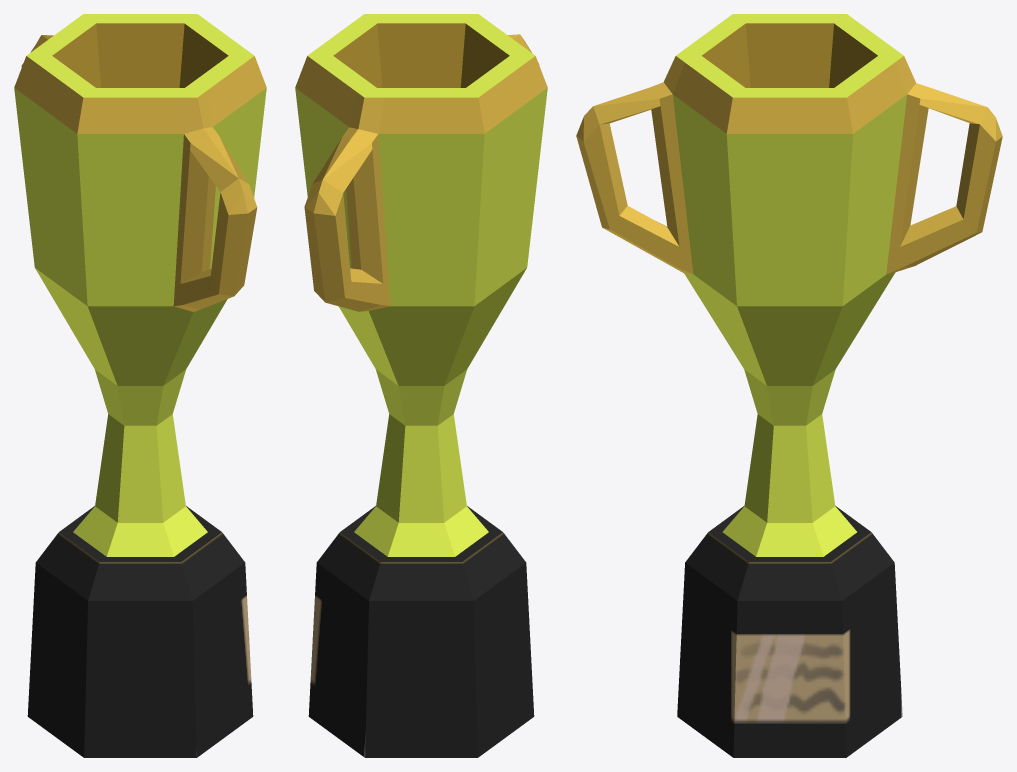
The model's file is Trophy_cup1.fbx.
3 views of the same model, side by side, from view 1: azimuth 30°, elevation 25°; view 2: azimuth 150°, elevation 25°; view 3: azimuth 270°, elevation 25° (orthographic).
Parts seen in each view (by area): view 1: Trophy Cup; view 2: Trophy Cup; view 3: Trophy Cup.
Boxes of the visible parts, x1,y1,x2,y2 form: Trophy Cup: (14,14,266,757); Trophy Cup: (295,14,547,757); Trophy Cup: (576,14,1002,757).
Bounding box in the file's own units: 78.73 × 262 × 153.
1 material, 1 textured.
